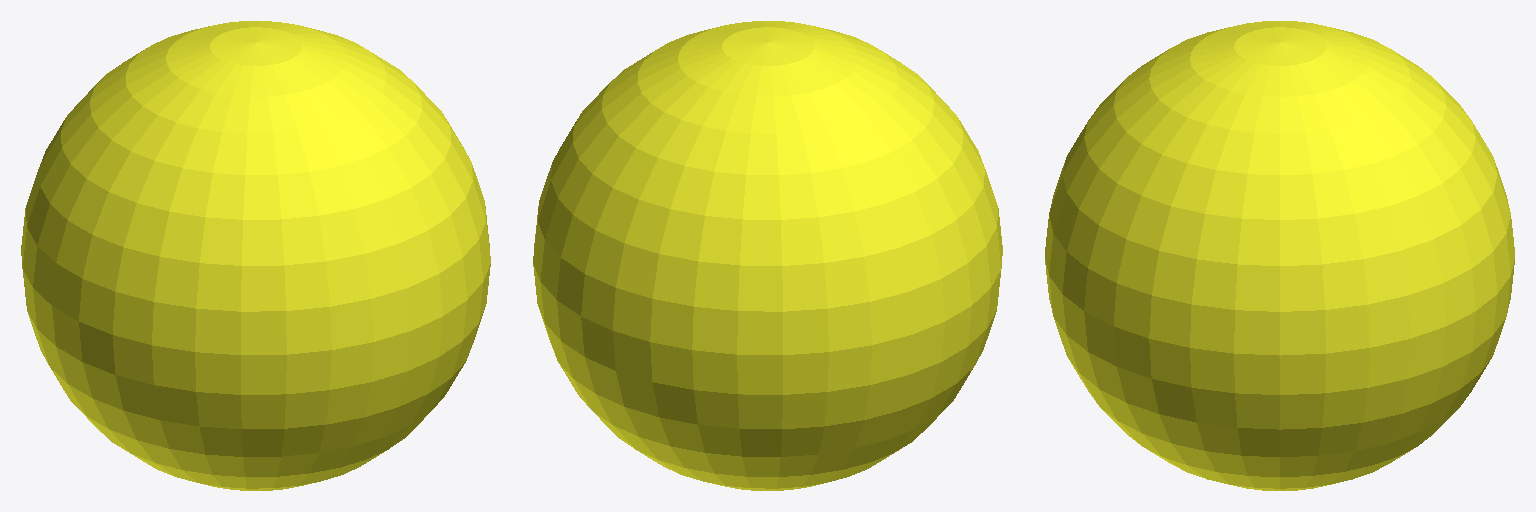
3 renders of one model, left to right at view 1: azimuth 30°, elevation 25°; view 2: azimuth 150°, elevation 25°; view 3: azimuth 270°, elevation 25°, orthographic.
Parts seen in each view (by area): view 1: Sphere; view 2: Sphere; view 3: Sphere.
Boxes of the visible parts, box(x1,y1,x2,y2) form: Sphere: box(21, 21, 490, 490); Sphere: box(533, 21, 1002, 490); Sphere: box(1045, 21, 1514, 490).
Size of the model in its own units: 1.2 by 1.2 by 1.2.
1 materials, 1 textured.